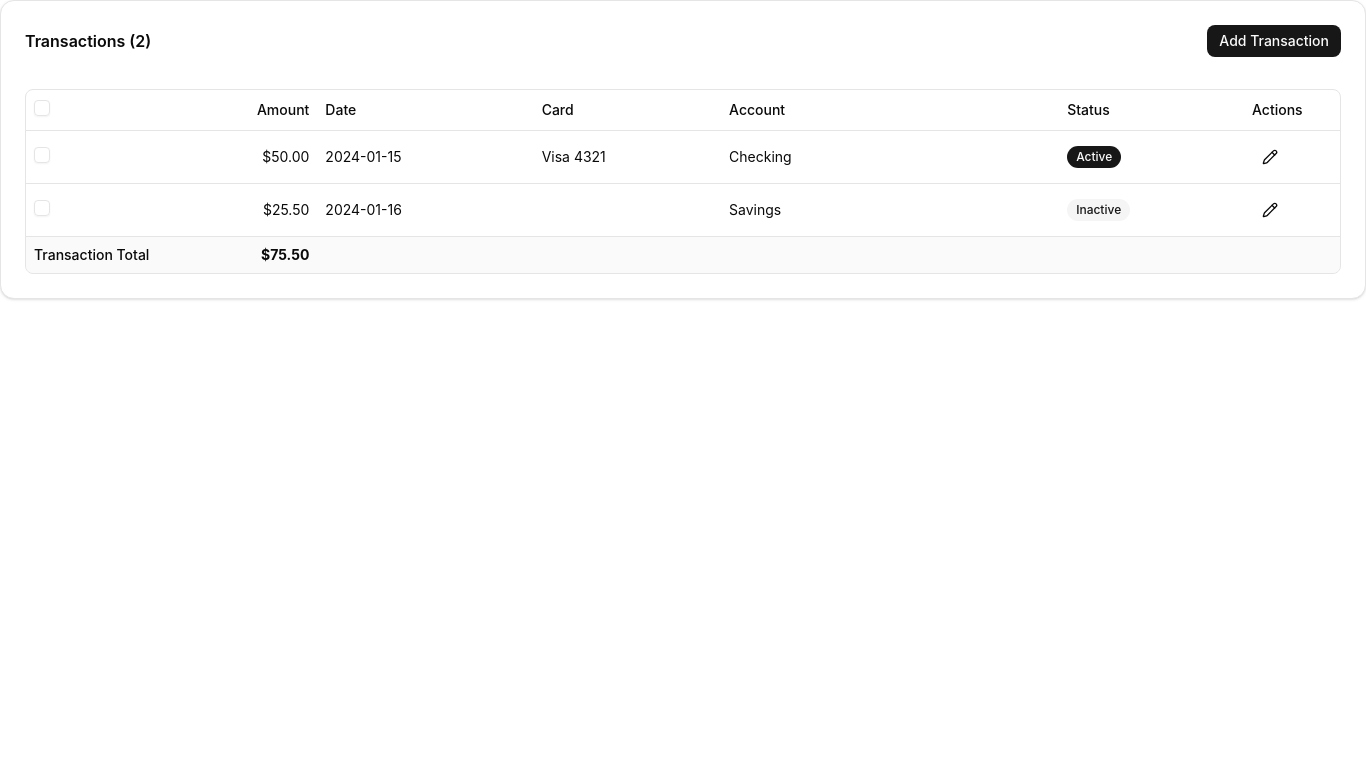
Test: ReceiptTransactionsCard › opens create dialog when Add Transaction is clicked
Click the button "Add Transaction": (1274, 41) [1207, 25, 1341, 57]
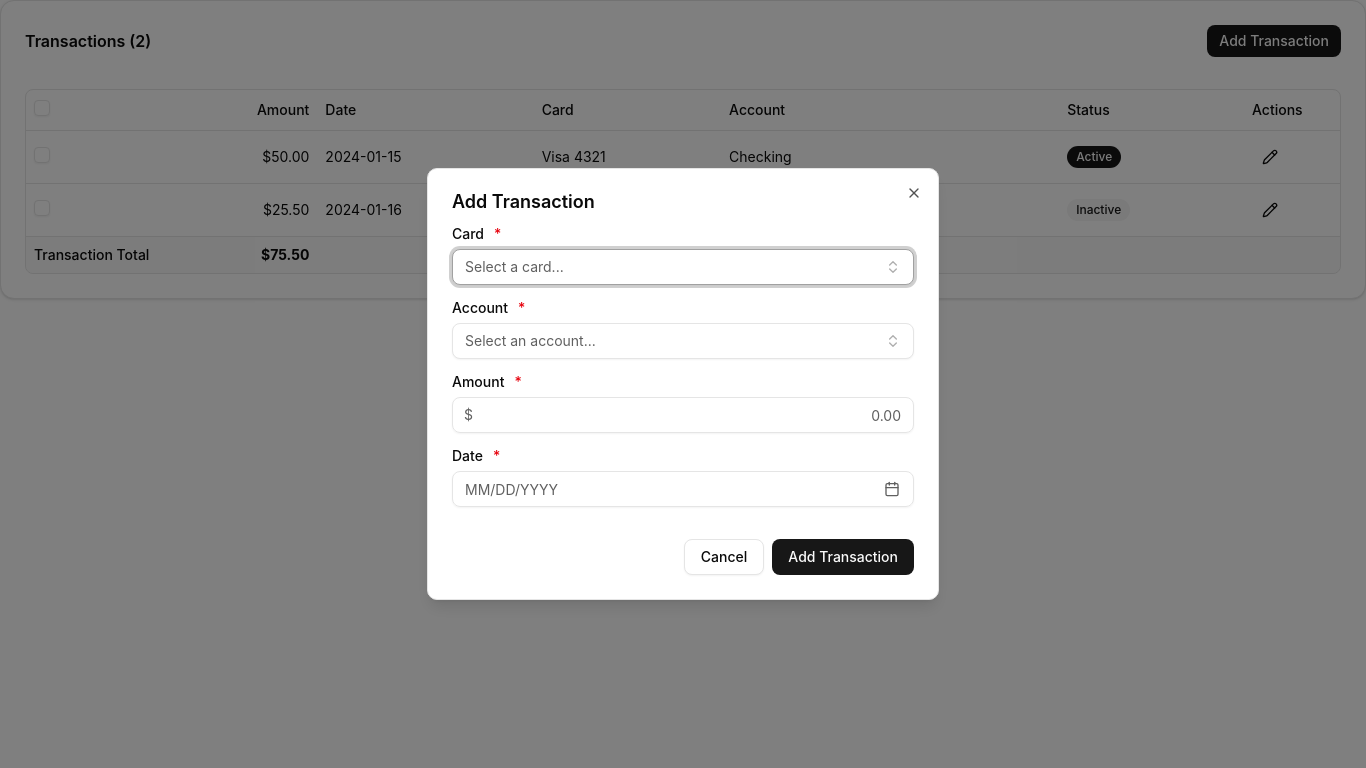
Check: the heading "Add Transaction" is shown, box [452, 191, 595, 212]
